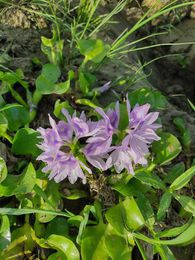water_hyacinth: (1, 38, 194, 259)
